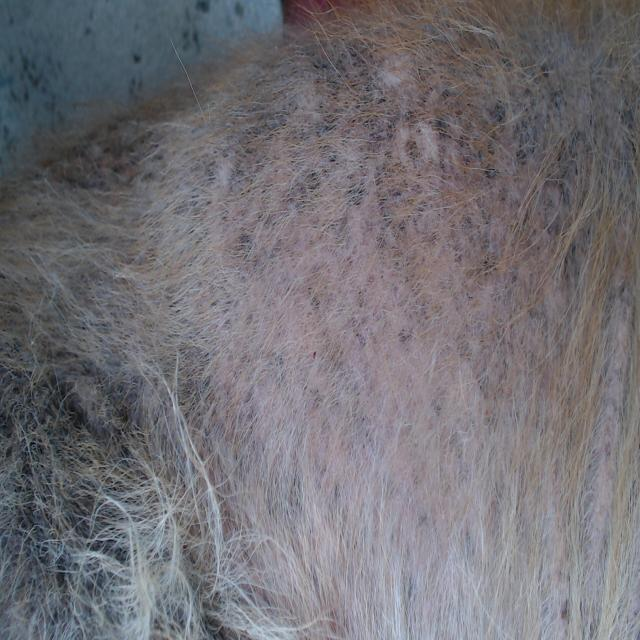demodicosis: (301, 31, 612, 348)
